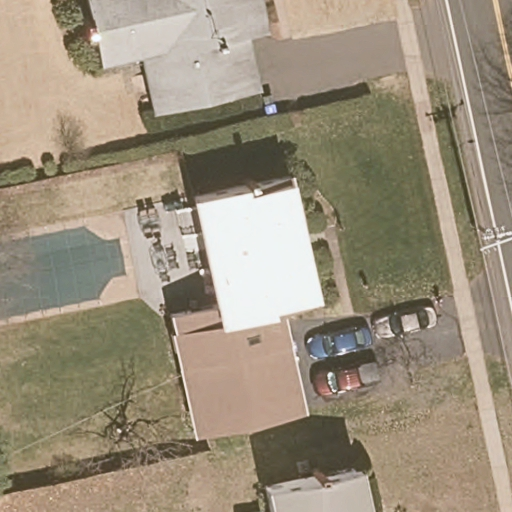DT: (480, 225, 512, 256)
